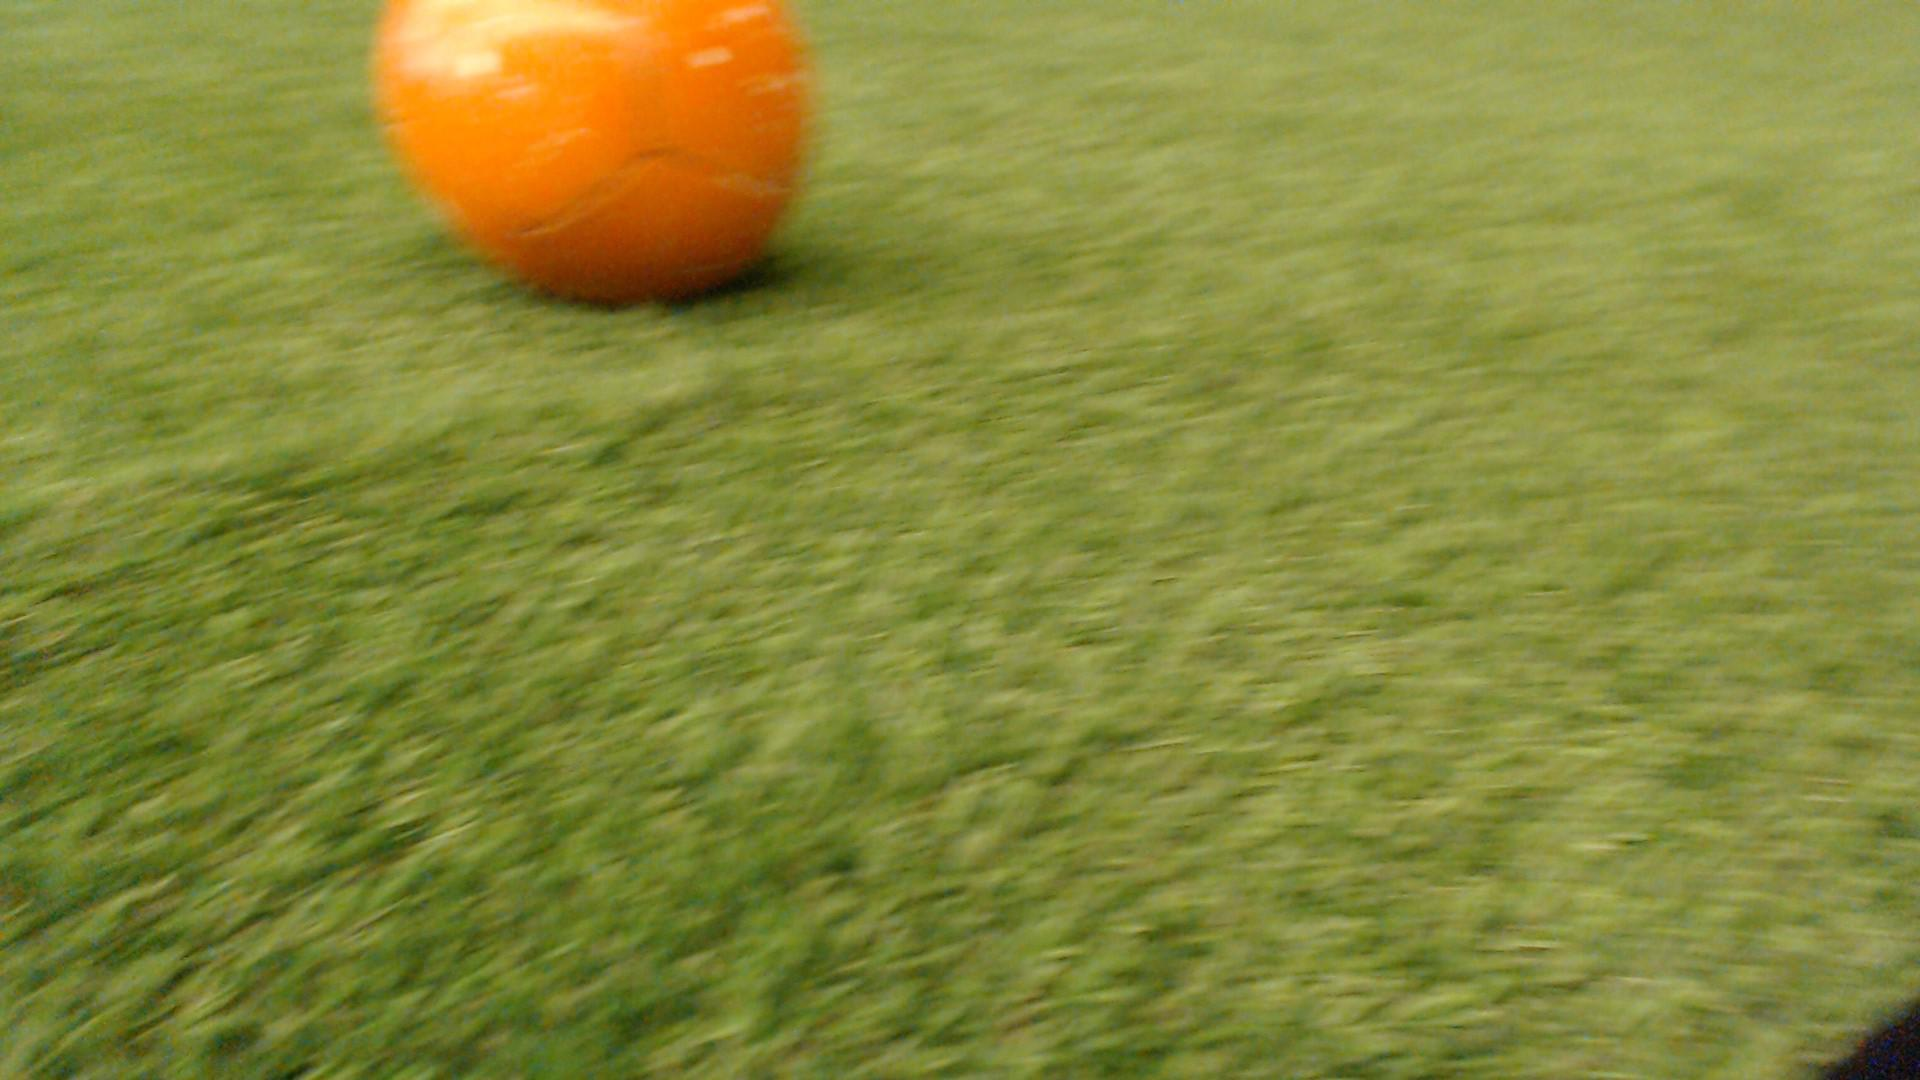bola: (327, 0, 849, 351)
